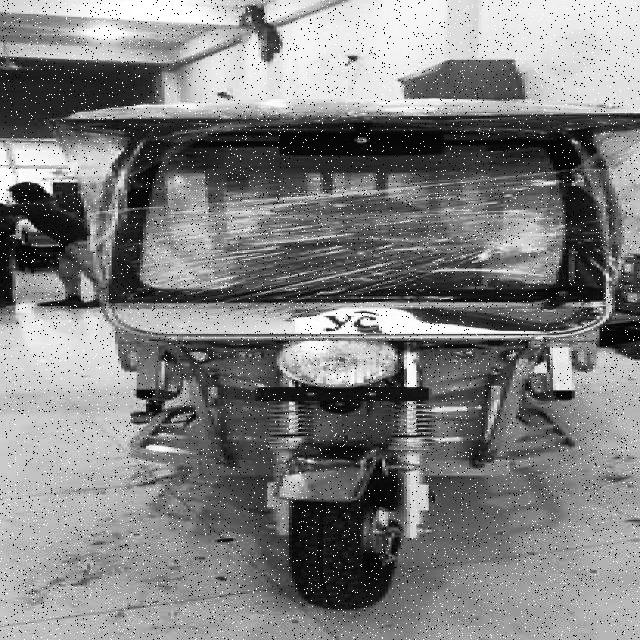Toto: (30, 88, 636, 610)
